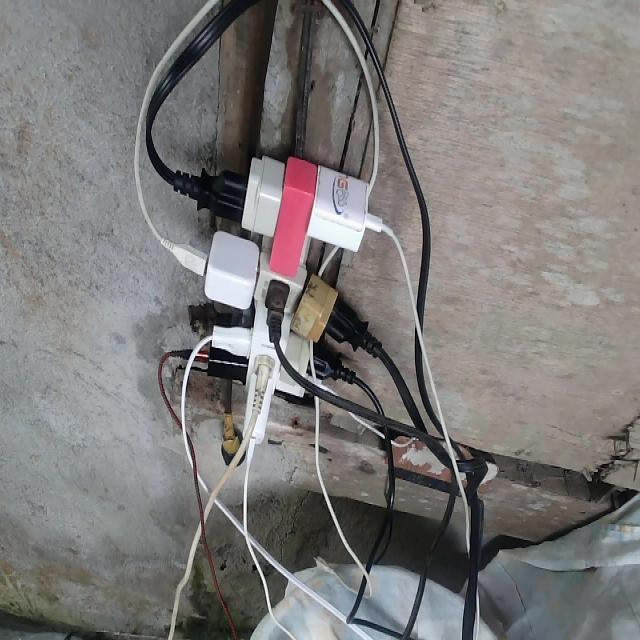-: (151, 89, 393, 444)
